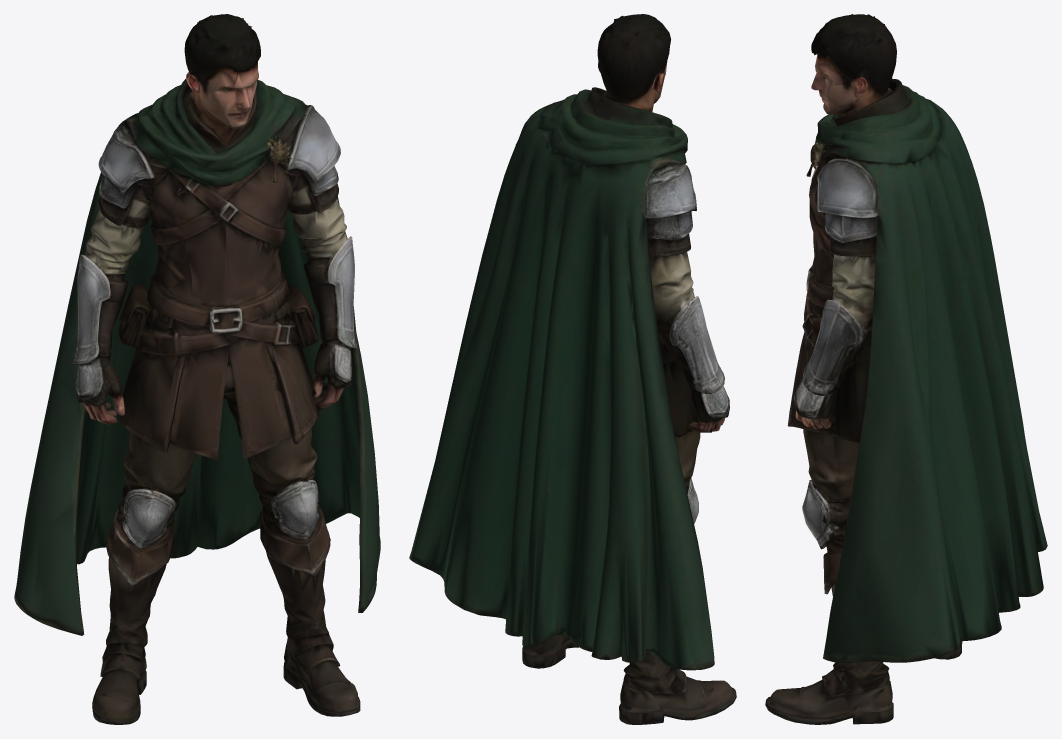
Rendered from hero_ai_preview.glb.
The picture shows the model from 3 angles, left to right: view 1: azimuth 30°, elevation 25°; view 2: azimuth 150°, elevation 25°; view 3: azimuth 270°, elevation 25°; orthographic projection. The views are drawn at different scales.
Parts seen in each view (by area): view 1: node_0; view 2: node_0; view 3: node_0.
Part boxes in pixels (left/top/right/bottom): node_0: left=14, top=14, right=380, bottom=724; node_0: left=409, top=14, right=736, bottom=724; node_0: left=765, top=14, right=1047, bottom=724.
Bounding box in the file's own units: 0.5593 × 1.11 × 0.434.
Materials: 1 (1 with a texture image).
